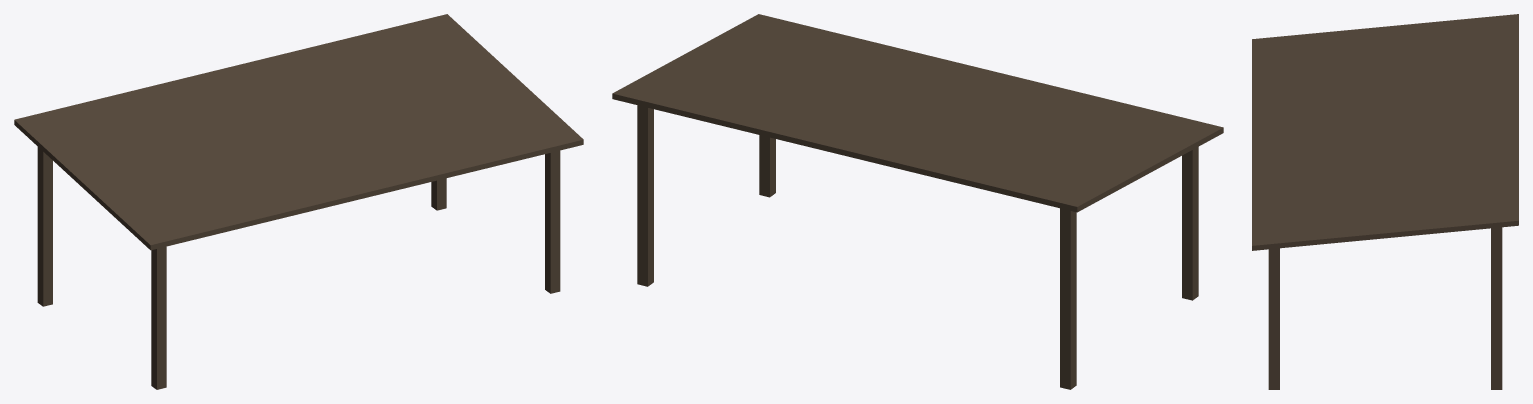
Rendered from granary-receiving-LOD2.glb.
3 renders of one model, left to right at view 1: azimuth 30°, elevation 25°; view 2: azimuth 150°, elevation 25°; view 3: azimuth 270°, elevation 25°, orthographic. The views are drawn at different scales.
Visible parts, largest first — view 1: granary-receiving-static_timber; view 2: granary-receiving-static_timber; view 3: granary-receiving-static_timber.
Part boxes in pixels (x1,y1,x2,y2): granary-receiving-static_timber: (14, 14, 583, 389); granary-receiving-static_timber: (612, 14, 1223, 389); granary-receiving-static_timber: (1252, 14, 1518, 389).
Bounding box in the file's own units: 8.8 × 3.5 × 4.8.
